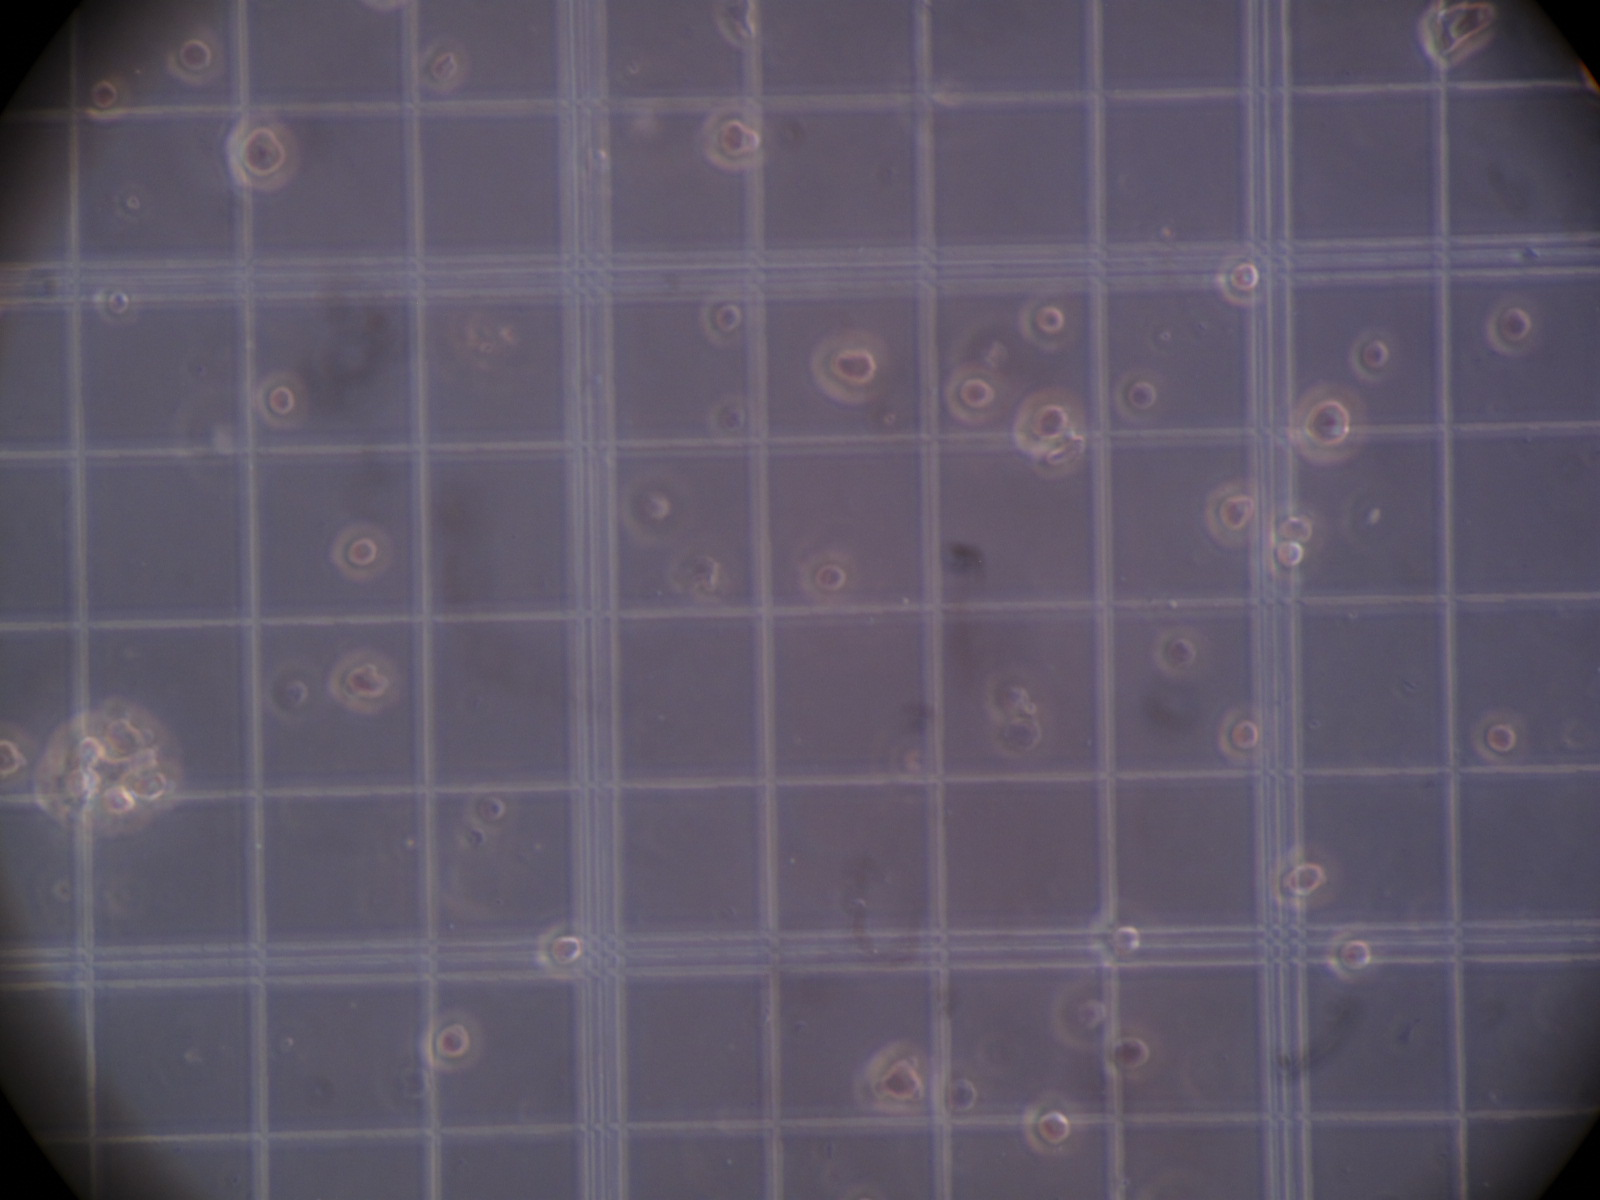hemo: (1291, 379, 1364, 468), (866, 1040, 934, 1121), (813, 330, 887, 403), (228, 117, 299, 192), (328, 645, 404, 713), (37, 751, 103, 827), (700, 100, 765, 173), (1017, 387, 1083, 455), (1052, 979, 1112, 1054), (418, 1006, 484, 1071), (1269, 847, 1338, 909), (944, 361, 1010, 424), (1204, 476, 1259, 550), (329, 522, 392, 584), (1022, 1089, 1080, 1156), (1087, 908, 1145, 968), (47, 715, 110, 770), (1019, 295, 1081, 350), (1471, 705, 1529, 763), (934, 1061, 986, 1124), (414, 38, 472, 95), (1484, 296, 1538, 357), (1102, 1026, 1159, 1083), (1216, 247, 1271, 304), (535, 921, 590, 979), (94, 782, 150, 837), (254, 371, 307, 429), (1216, 706, 1269, 763), (97, 698, 147, 758), (795, 555, 855, 604), (166, 37, 227, 84), (120, 766, 185, 811), (1151, 625, 1206, 677), (1116, 368, 1167, 421), (1267, 504, 1324, 550), (1327, 930, 1376, 982), (1264, 538, 1319, 582), (702, 291, 745, 344), (1349, 326, 1390, 379), (84, 73, 126, 124), (1, 724, 33, 787), (92, 285, 141, 321), (470, 792, 511, 829)
